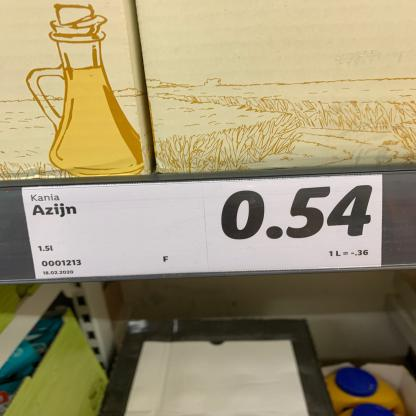prtg: (23, 175, 384, 280)
